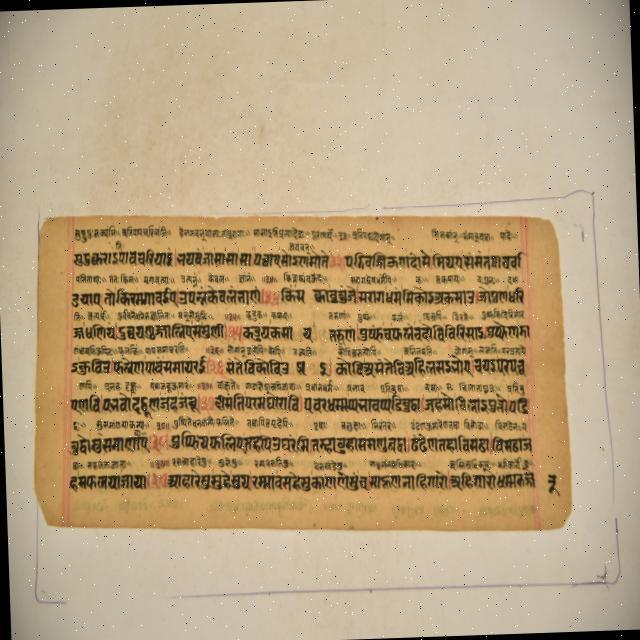text_paragraph: (35, 216, 568, 534)
